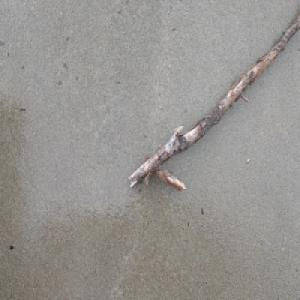Wood: (127, 12, 300, 192)
